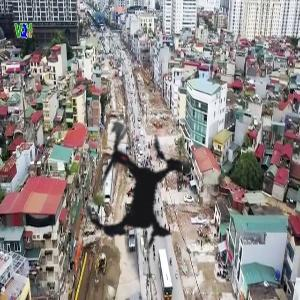drone: (34, 91, 236, 293)
